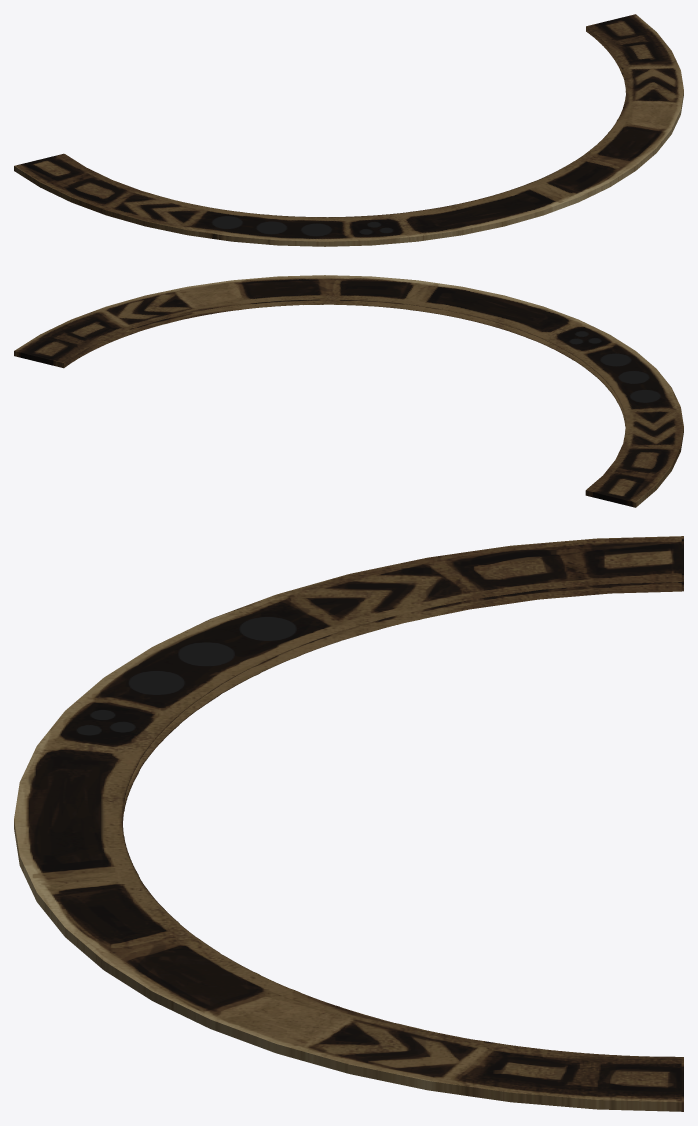
File: O3Attr.fbx
The picture shows the model from 3 angles, top to bottom: view 1: azimuth 30°, elevation 25°; view 2: azimuth 150°, elevation 25°; view 3: azimuth 270°, elevation 25°; orthographic projection. The views are drawn at different scales.
Visible parts, largest first — view 1: O3Attr; view 2: O3Attr; view 3: O3Attr.
Boxes of the visible parts, bbox=[...] form: O3Attr: bbox=[14, 14, 683, 246]; O3Attr: bbox=[14, 275, 683, 507]; O3Attr: bbox=[14, 536, 683, 1111].
Bounding box in the file's own units: 4.49 × 0.0351 × 2.25.
